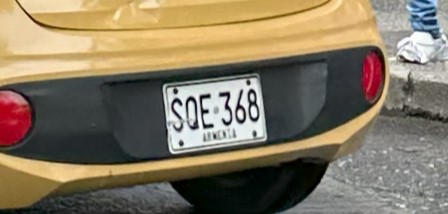number plate: (0, 0, 387, 212), (163, 73, 266, 153)
